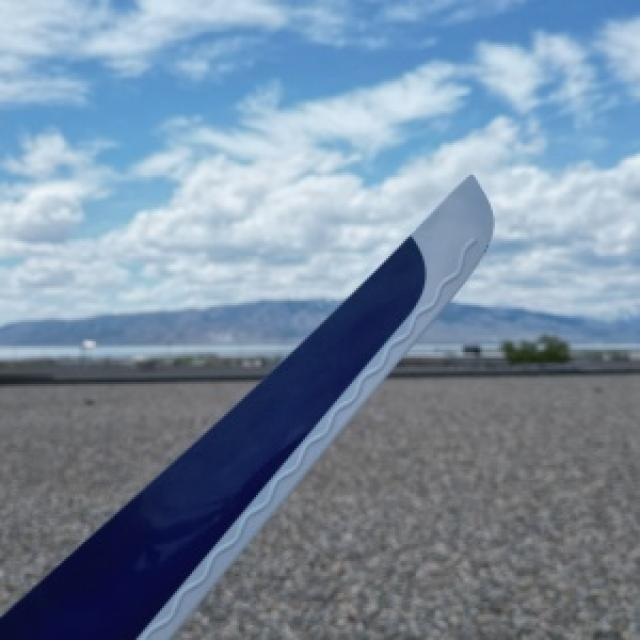healthy: (0, 173, 491, 638)
